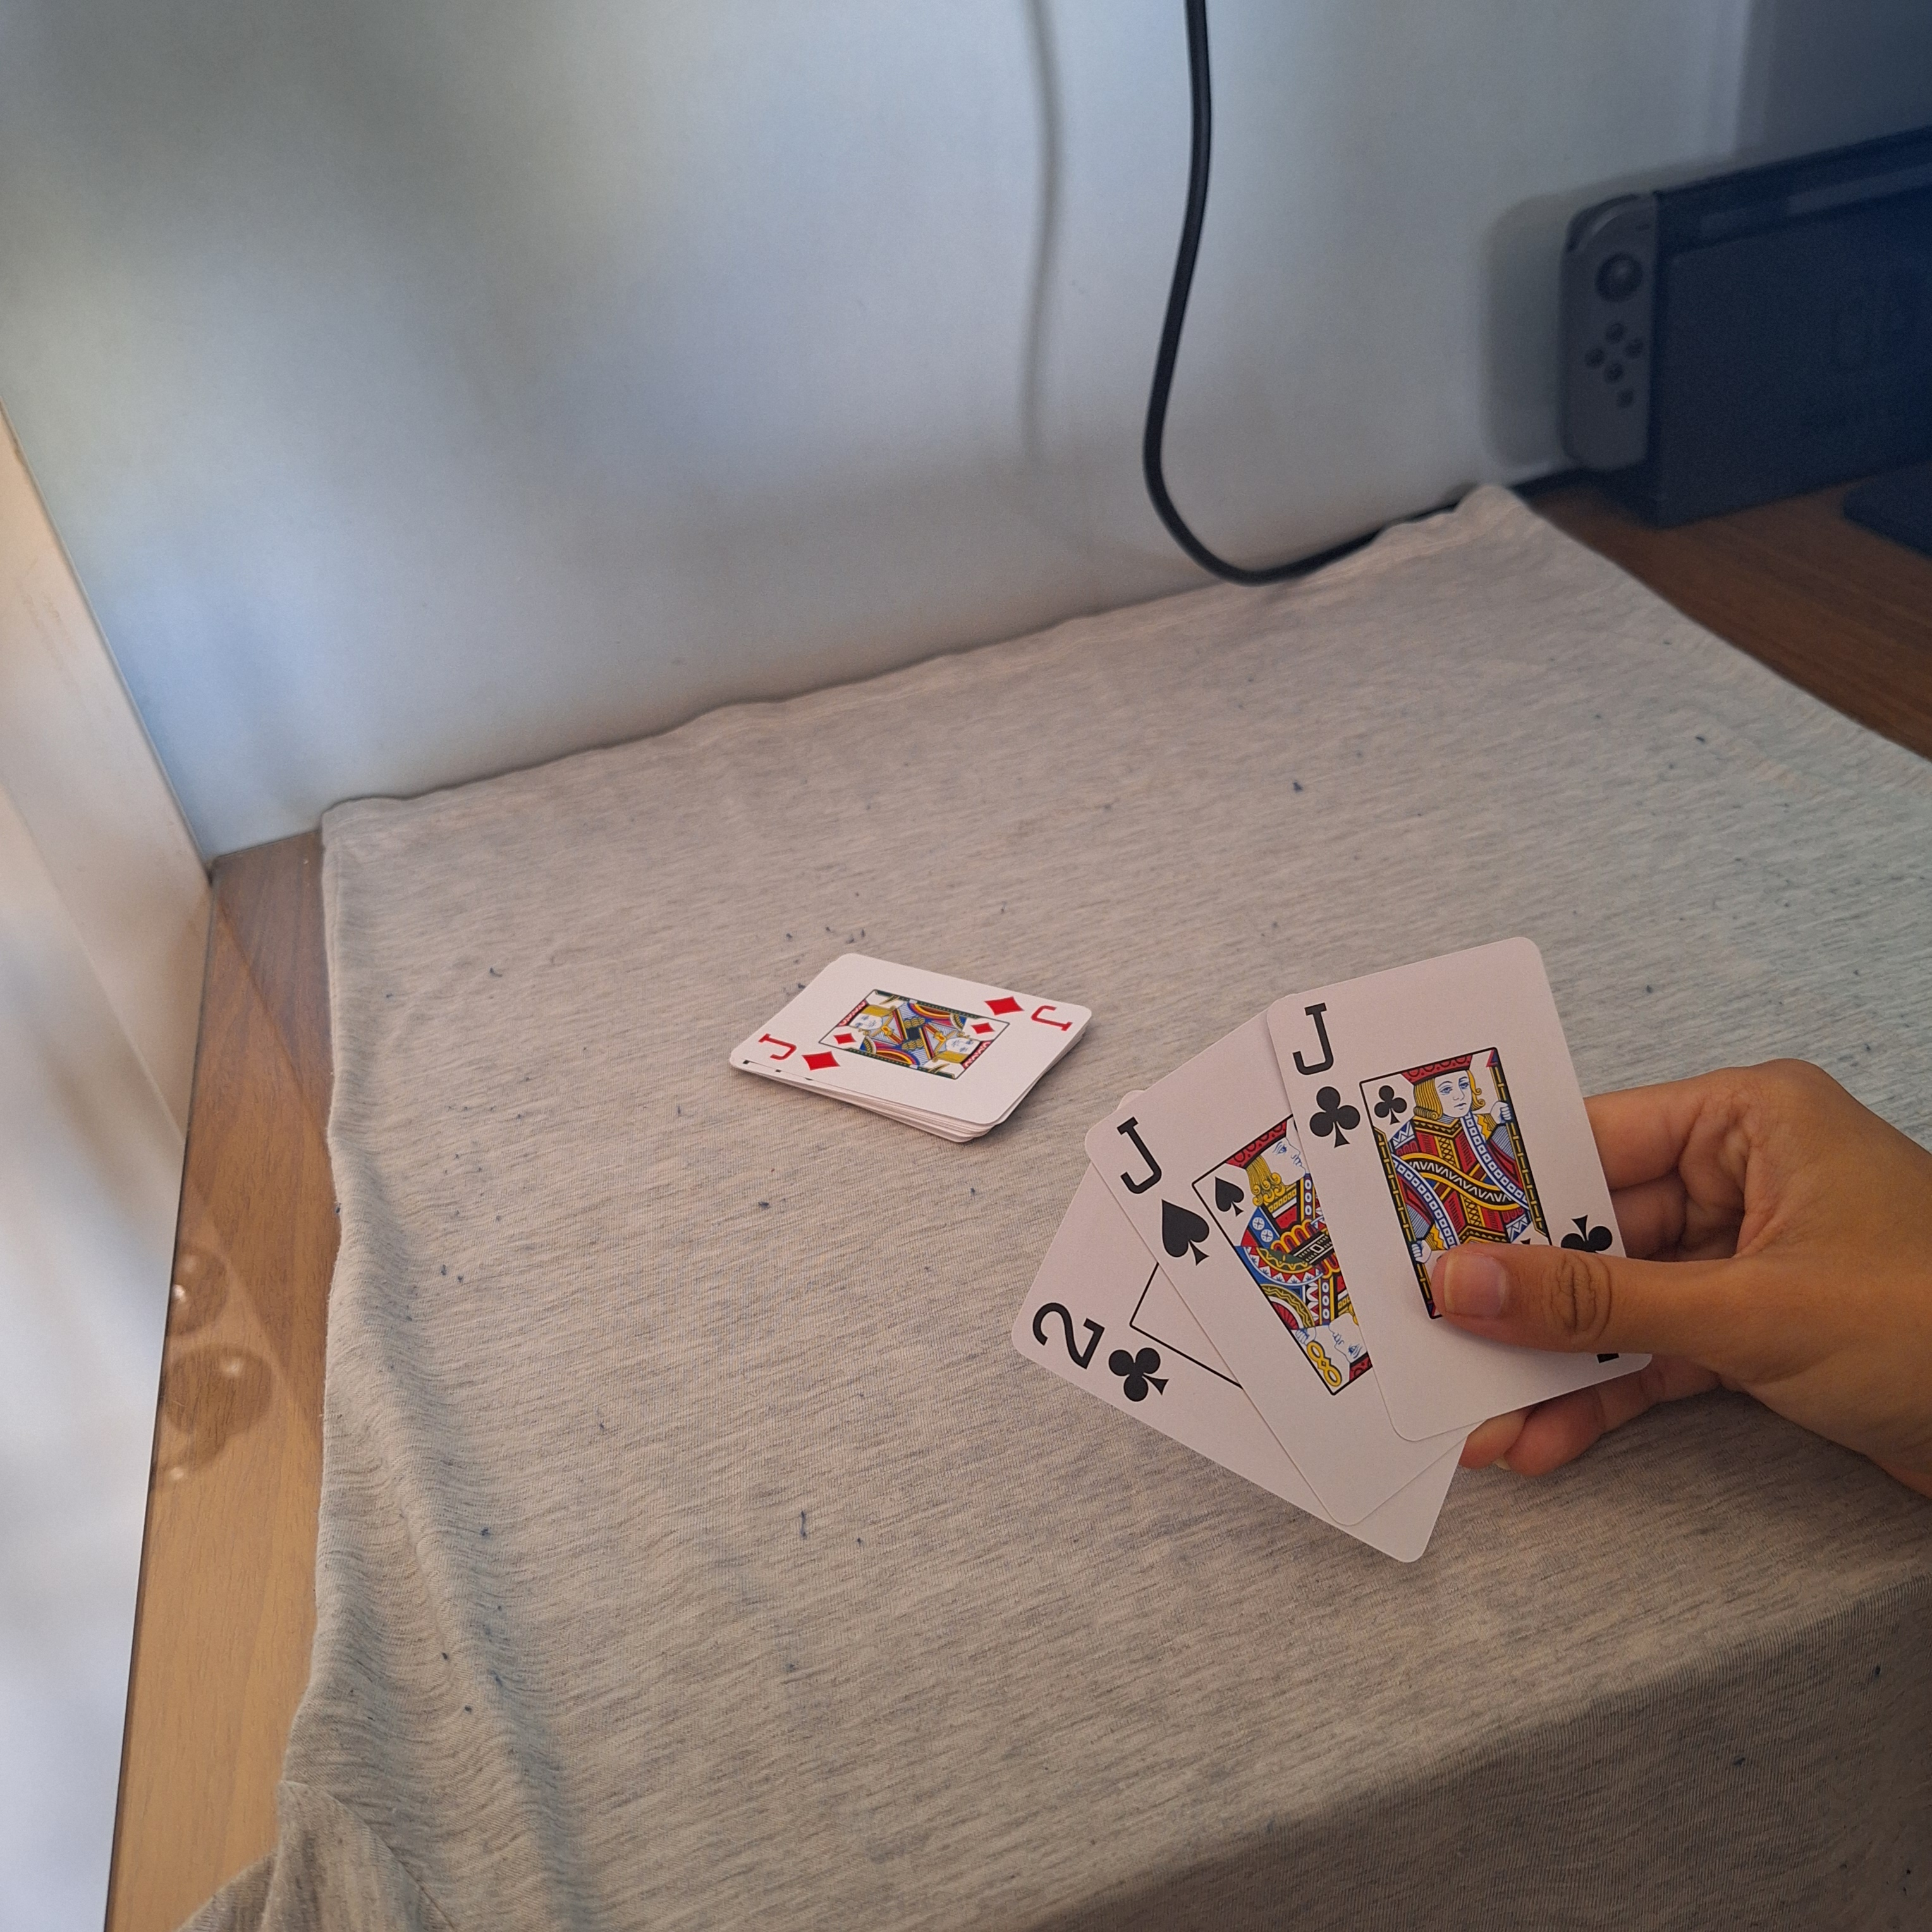2P: (1028, 1297, 1175, 1405)
JE: (1104, 1113, 1214, 1269)
JO: (984, 994, 1074, 1035), (757, 1031, 840, 1074)
JP: (1284, 1000, 1366, 1152)
